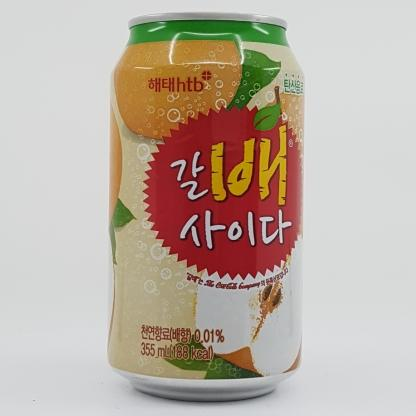-------355ML: (106, 11, 306, 402)
